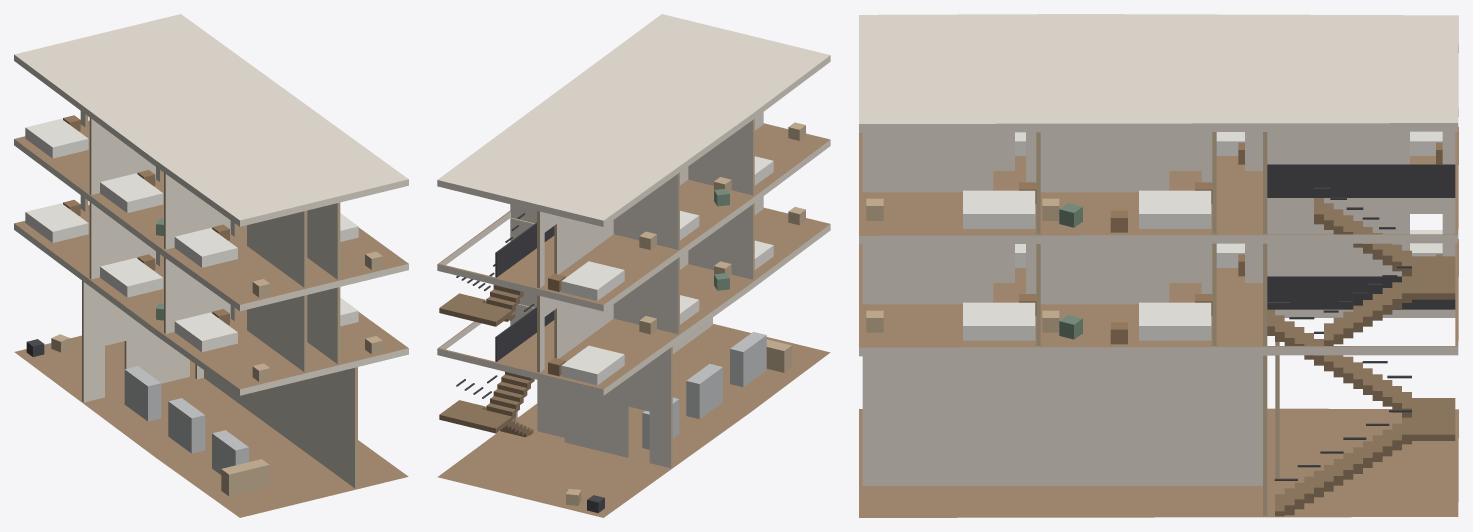
Rendered from interior.glb.
3 renders of one model, left to right at view 1: azimuth 30°, elevation 25°; view 2: azimuth 150°, elevation 25°; view 3: azimuth 270°, elevation 25°, orthographic. The views are drawn at different scales.
Parts seen in each view (by area): view 1: slabs, partitions, coarse-s1, coarse-s2, coarse-s0; view 2: slabs, partitions, stair, coarse-s0, coarse-s2, coarse-s1; view 3: slabs, partitions, stair, coarse-s2, coarse-s1.
Boxes of the visible parts, x1,y1,x2,y2 form: slabs: (14,14,408,517); partitions: (80,111,357,488); coarse-s1: (25,200,382,381); coarse-s2: (25,115,382,297); coarse-s0: (26,334,269,496); slabs: (437,14,830,517); partitions: (510,112,763,468); stair: (439,213,554,437); coarse-s0: (566,332,791,512); coarse-s2: (548,122,805,300); coarse-s1: (548,207,805,385); slabs: (859,14,1458,517); partitions: (862,131,1455,516); stair: (1267,164,1455,516); coarse-s2: (866,131,1442,232); coarse-s1: (866,230,1442,344).
Bounding box in the file's own units: 7.19 × 12.02 × 16.57.
